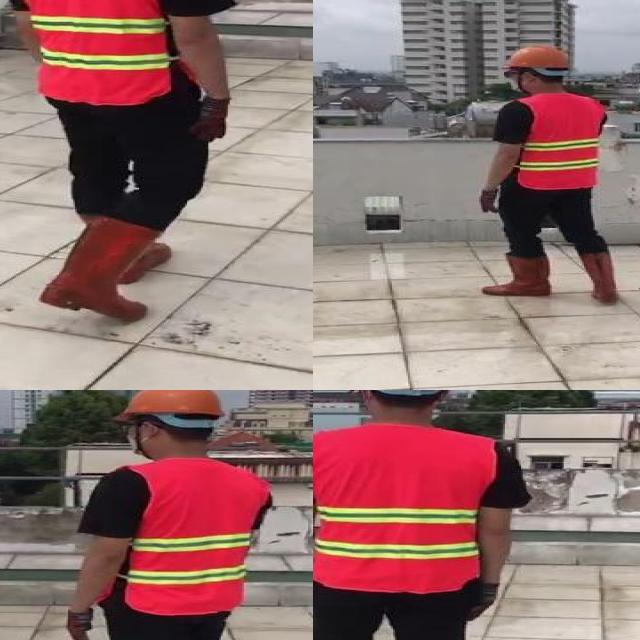boots: (45, 219, 141, 322), (484, 255, 556, 295), (118, 238, 169, 284), (577, 252, 619, 301), (73, 212, 98, 225)
hand_glove: (187, 97, 230, 141), (460, 581, 498, 622), (66, 609, 98, 640), (479, 188, 499, 212)
head_helmet: (110, 390, 228, 423), (500, 44, 567, 70)
person: (0, 0, 241, 329), (54, 390, 285, 640), (313, 390, 522, 640), (469, 43, 639, 309)
vest: (313, 426, 490, 592), (114, 459, 269, 617), (6, 0, 180, 105), (513, 95, 602, 191)
